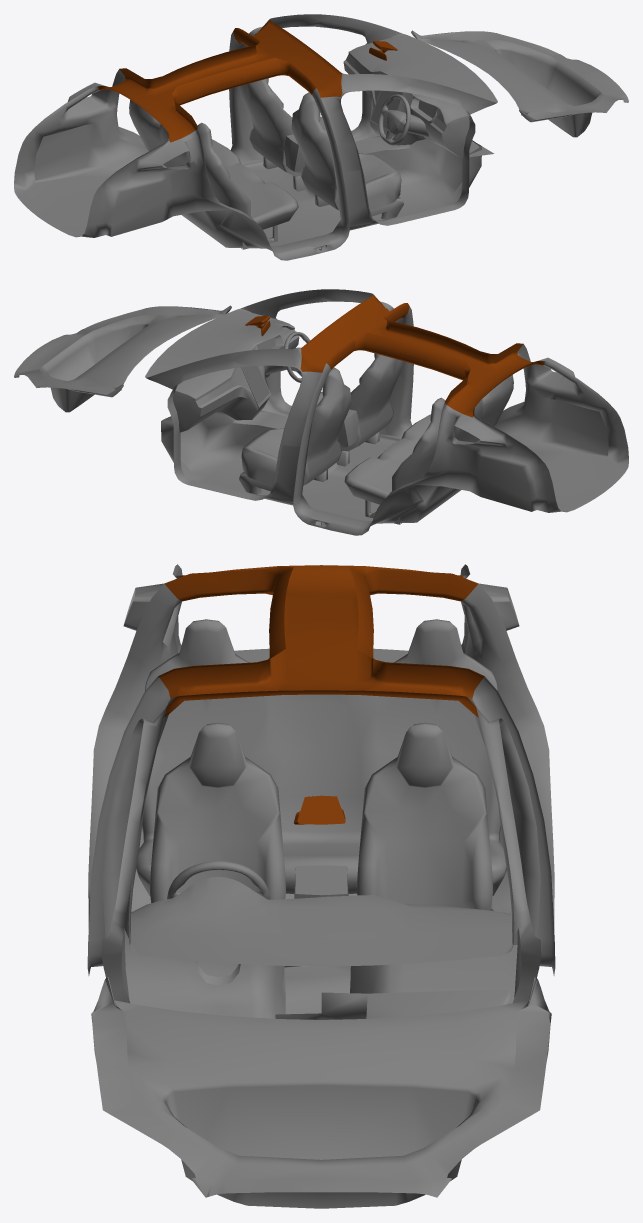
Rendered from Interior_5_seater_RHD.obj.
3 views of the same model, one above another, from view 1: azimuth 30°, elevation 25°; view 2: azimuth 150°, elevation 25°; view 3: azimuth 270°, elevation 25° (orthographic). The views are drawn at different scales.
Visible parts, largest first — view 1: Interior_5_seater_RHD; view 2: Interior_5_seater_RHD; view 3: Interior_5_seater_RHD.
Part boxes in pixels (box(x1,y1,x2,y2)): Interior_5_seater_RHD: box(14, 14, 628, 260); Interior_5_seater_RHD: box(14, 289, 628, 535); Interior_5_seater_RHD: box(87, 564, 555, 1208).
Size of the model in its own units: 4.9 by 1.31 by 1.75.
